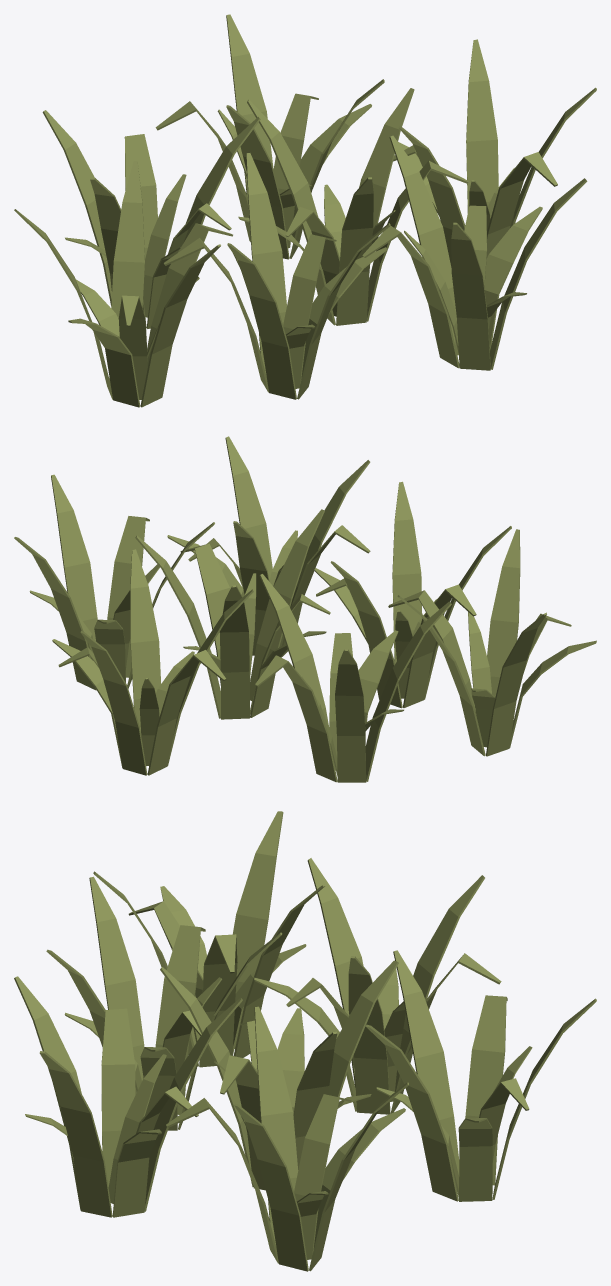
Rendered from Wh_Grass_Batch.fbx.
The picture shows the model from 3 angles, top to bottom: view 1: azimuth 30°, elevation 25°; view 2: azimuth 150°, elevation 25°; view 3: azimuth 270°, elevation 25°; orthographic projection. The views are drawn at different scales.
Parts seen in each view (by area): view 1: Cube.1110; view 2: Cube.1110; view 3: Cube.1110.
Boxes of the visible parts, <box> form: Cube.1110: <box>14,14,596,407</box>; Cube.1110: <box>14,436,596,782</box>; Cube.1110: <box>14,811,596,1271</box>.
Bounding box in the file's own units: 179 × 56.59 × 150.
